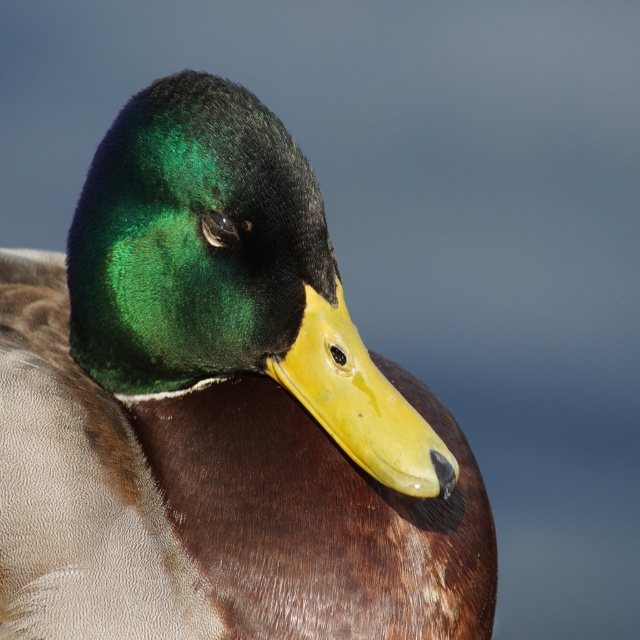Duck: (1, 65, 496, 639)
